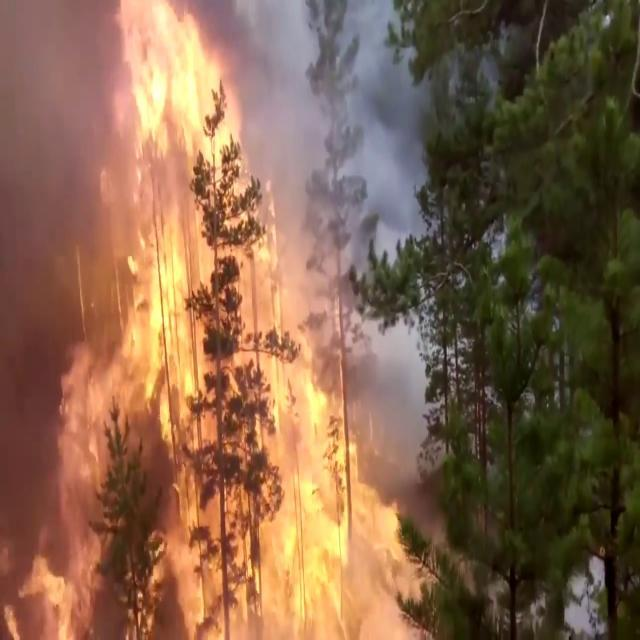Fire: (82, 1, 378, 631)
